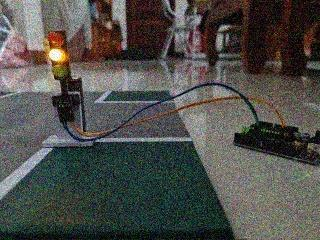yellow: (36, 22, 81, 90)
